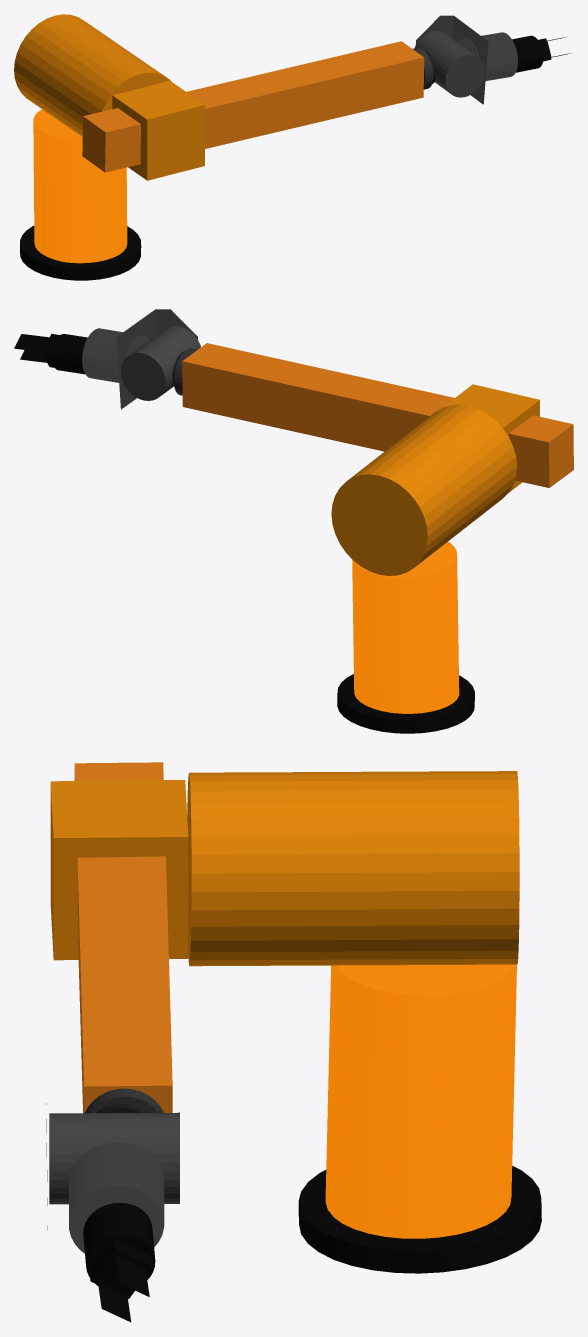
Rendered from stanford.gltf.
3 views of the same model, one above another, from view 1: azimuth 30°, elevation 25°; view 2: azimuth 150°, elevation 25°; view 3: azimuth 270°, elevation 25° (orthographic). The views are drawn at different scales.
Parts seen in each view (by area): view 1: Cube, Cylinder001, Cylinder, Circle, Cylinder002, Cylinder004, Plane, Cylinder005, Circle001; view 2: Cylinder001, Cube, Cylinder, Circle, Cylinder002, Cylinder005, Cylinder004, Plane; view 3: Cylinder001, Cylinder, Cube, Circle, Cylinder002, Cylinder004, Cylinder005, Circle001.
Part boxes in pixels (x1,y1,x2,y2): Cube: [82, 41, 424, 172]; Cylinder001: [14, 14, 204, 180]; Cylinder: [33, 109, 127, 263]; Circle: [20, 226, 141, 280]; Cylinder002: [414, 31, 484, 97]; Cylinder004: [458, 32, 517, 80]; Plane: [415, 15, 488, 104]; Cylinder005: [512, 35, 571, 72]; Circle001: [413, 47, 433, 89]; Cylinder001: [331, 384, 539, 575]; Cube: [182, 343, 573, 487]; Cylinder: [352, 542, 459, 713]; Circle: [337, 674, 474, 733]; Cylinder002: [120, 326, 200, 400]; Cylinder005: [14, 333, 87, 374]; Cylinder004: [82, 328, 149, 382]; Plane: [116, 309, 197, 409]; Cylinder001: [50, 771, 519, 966]; Cylinder: [325, 964, 516, 1238]; Cube: [74, 762, 172, 1113]; Circle: [298, 1166, 541, 1273]; Cylinder002: [49, 1112, 179, 1204]; Cylinder004: [69, 1142, 164, 1253]; Cylinder005: [83, 1203, 155, 1322]; Circle001: [85, 1088, 163, 1113].
Bounding box in the file's own units: 9.06 × 4.05 × 4.08.
